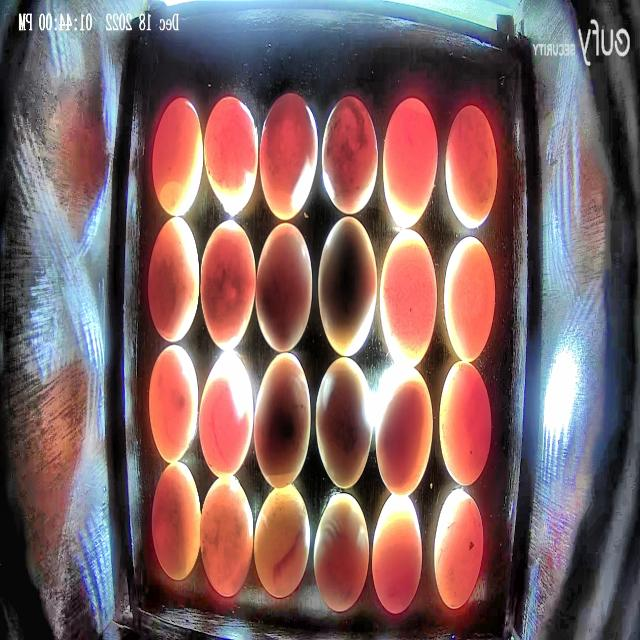DE: (318, 216, 378, 356), (380, 230, 437, 366), (375, 366, 434, 496), (259, 92, 318, 222), (254, 352, 310, 487), (255, 222, 312, 354), (316, 357, 372, 490), (200, 218, 255, 351), (384, 97, 439, 227), (199, 350, 253, 478), (443, 236, 496, 364), (314, 492, 371, 610), (444, 104, 498, 228), (148, 215, 200, 343), (439, 360, 492, 485), (200, 473, 253, 598), (322, 95, 378, 213), (253, 483, 310, 598), (205, 96, 258, 216), (371, 491, 422, 613), (148, 342, 198, 466), (152, 97, 203, 217), (434, 491, 484, 609), (152, 462, 200, 581)
